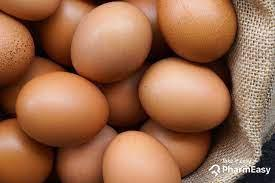egg: (134, 54, 240, 137), (14, 70, 109, 148), (69, 0, 155, 83), (157, 0, 243, 71), (102, 131, 184, 183)
